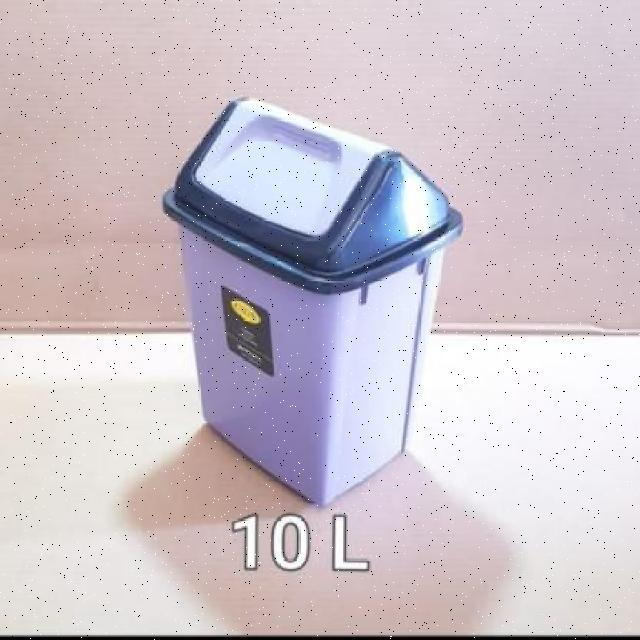garbage container: (152, 84, 478, 514)
